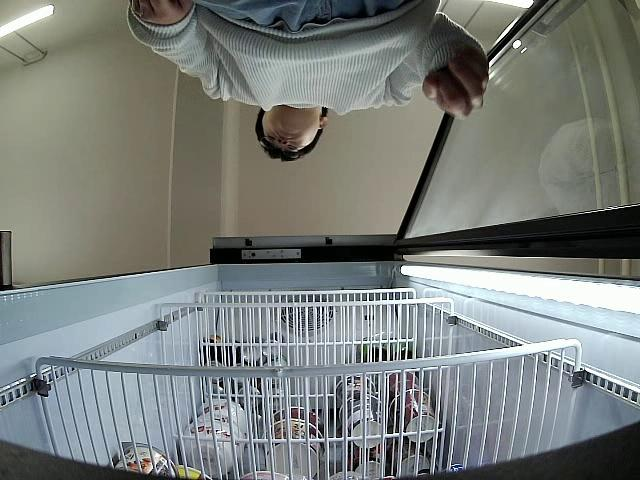00_hand: (423, 43, 489, 119)
